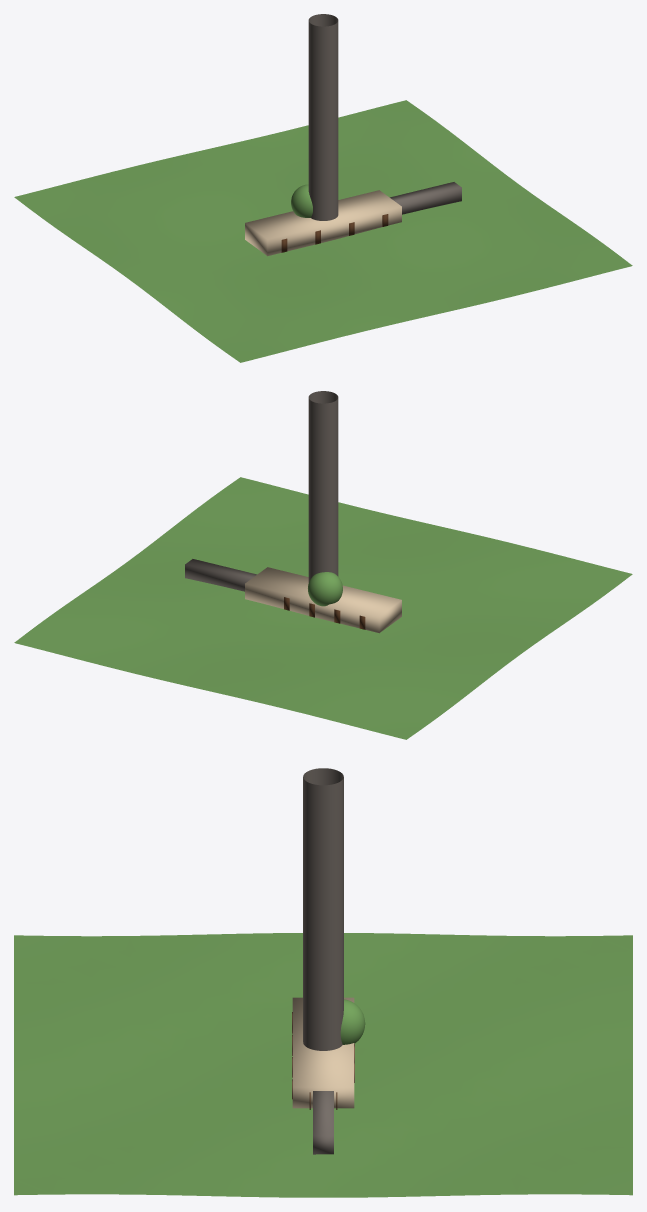
File: ch1_greybox.glb
3 renders of one model, top to bottom at view 1: azimuth 30°, elevation 25°; view 2: azimuth 150°, elevation 25°; view 3: azimuth 270°, elevation 25°, orthographic. The views are drawn at different scales.
Visible parts, largest first — view 1: S1_Ground_Meadow, S3_Well_Shaft_Mesh, S5_Hall_Shell, S4_Passage_Straight, S1_Oak_Tree_Canopy; view 2: S1_Ground_Meadow, S3_Well_Shaft_Mesh, S5_Hall_Shell, S4_Passage_Straight, S1_Oak_Tree_Canopy; view 3: S1_Ground_Meadow, S3_Well_Shaft_Mesh, S5_Hall_Shell, S4_Passage_Straight, S1_Oak_Tree_Canopy.
Boxes of the visible parts, x1=… form: S1_Ground_Meadow: x1=14, y1=100, x2=632, y2=362; S3_Well_Shaft_Mesh: x1=308, y1=14, x2=338, y2=220; S5_Hall_Shell: x1=245, y1=190, x2=401, y2=256; S4_Passage_Straight: x1=390, y1=182, x2=461, y2=214; S1_Oak_Tree_Canopy: x1=291, y1=184, x2=312, y2=217; S1_Ground_Meadow: x1=14, y1=477, x2=632, y2=739; S3_Well_Shaft_Mesh: x1=308, y1=391, x2=338, y2=582; S5_Hall_Shell: x1=245, y1=567, x2=401, y2=633; S4_Passage_Straight: x1=185, y1=559, x2=256, y2=591; S1_Oak_Tree_Canopy: x1=308, y1=572, x2=342, y2=606; S1_Ground_Meadow: x1=14, y1=933, x2=632, y2=1197; S3_Well_Shaft_Mesh: x1=303, y1=768, x2=343, y2=1050; S5_Hall_Shell: x1=292, y1=997, x2=354, y2=1108; S4_Passage_Straight: x1=313, y1=1091, x2=333, y2=1154; S1_Oak_Tree_Canopy: x1=340, y1=999, x2=365, y2=1044.
Bounding box in the file's own units: 70 × 36.25 × 70.
